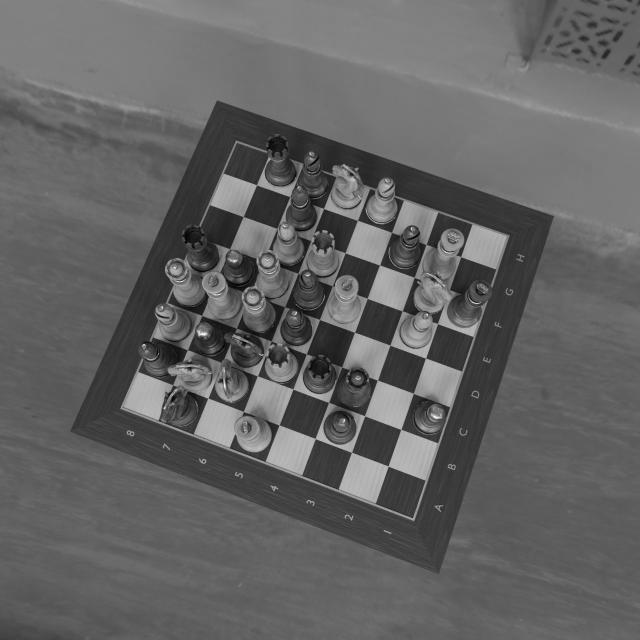chessboard: (122, 141, 508, 518)
